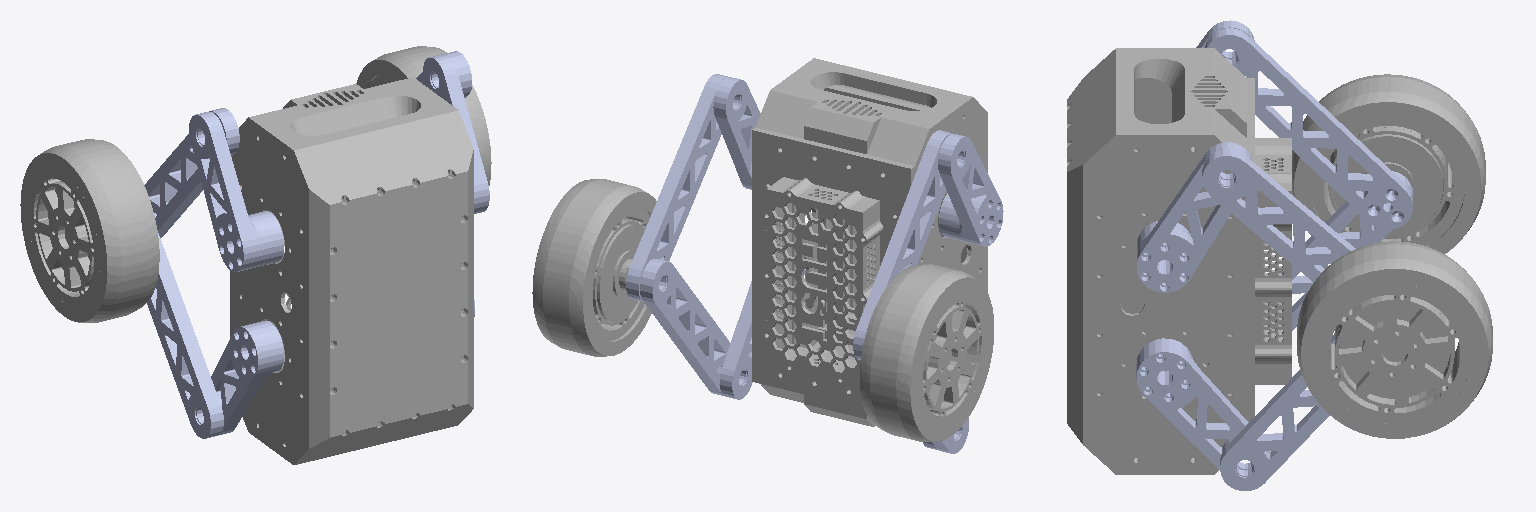
robot.urdf — Assem.SLDASM:
<?xml version="1.0" encoding="utf-8"?>
<!-- This URDF was automatically created by SolidWorks to URDF Exporter! Originally created by Stephen Brawner (brawner@gmail.com) 
     Commit Version: 1.6.0-4-g7f85cfe  Build Version: 1.6.7995.38578
     For more information, please see http://wiki.ros.org/sw_urdf_exporter -->
<robot
  name="Assem.SLDASM">
  <link
    name="base_link">
    <inertial>
      <origin
        xyz="0.61810566148853 0.852358257522334 1.31200349836816"
        rpy="0 0 0" />
      <mass
        value="0.691272524367652" />
      <inertia
        ixx="0.00179818156893696"
        ixy="-6.73961762236765E-07"
        ixz="2.36931261953476E-10"
        iyy="0.000910846989775591"
        iyz="3.95770924716962E-08"
        izz="0.00220419368434546" />
    </inertial>
    <visual>
      <origin
        xyz="0 0 0"
        rpy="0 0 0" />
      <geometry>
        <mesh
          filename="package://Assem.SLDASM/meshes/base_link.STL" />
      </geometry>
      <material
        name="">
        <color
          rgba="0.752941176470588 0.752941176470588 0.752941176470588 1" />
      </material>
    </visual>
    <collision>
      <origin
        xyz="0 0 0"
        rpy="0 0 0" />
      <geometry>
        <mesh
          filename="package://Assem.SLDASM/meshes/base_link.STL" />
      </geometry>
    </collision>
  </link>
  <link
    name="link1R">
    <inertial>
      <origin
        xyz="0.0216791526538073 -3.59088608667957E-05 0.0198410076409694"
        rpy="0 0 0" />
      <mass
        value="0.0439251847494173" />
      <inertia
        ixx="7.419213024296E-06"
        ixy="1.76038259105975E-08"
        ixz="-5.84387301022653E-06"
        iyy="4.19728220726573E-05"
        iyz="9.7143212961844E-09"
        izz="4.2695974807547E-05" />
    </inertial>
    <visual>
      <origin
        xyz="0 0 0"
        rpy="0 0 0" />
      <geometry>
        <mesh
          filename="package://Assem.SLDASM/meshes/link1R.STL" />
      </geometry>
      <material
        name="">
        <color
          rgba="0.792156862745098 0.819607843137255 0.933333333333333 1" />
      </material>
    </visual>
    <collision>
      <origin
        xyz="0 0 0"
        rpy="0 0 0" />
      <geometry>
        <mesh
          filename="package://Assem.SLDASM/meshes/link1R.STL" />
      </geometry>
    </collision>
  </link>
  <joint
    name="joint1R"
    type="continuous">
    <origin
      xyz="0.68104 -1.3109 0.89235"
      rpy="1.5708 -1.0344 1.5708" />
    <parent
      link="base_link" />
    <child
      link="link1R" />
    <axis
      xyz="0 0 1" />
  </joint>
  <link
    name="link2R">
    <inertial>
      <origin
        xyz="0.0704842164539703 -5.09785780576921E-05 0.00499258085565435"
        rpy="0 0 0" />
      <mass
        value="0.0409696917611631" />
      <inertia
        ixx="4.07935788655227E-06"
        ixy="-1.01132316890405E-09"
        ixz="2.11300215271454E-08"
        iyy="9.92625677292106E-05"
        iyz="1.54954515179655E-11"
        izz="0.000102663959383853" />
    </inertial>
    <visual>
      <origin
        xyz="0 0 0"
        rpy="0 0 0" />
      <geometry>
        <mesh
          filename="package://Assem.SLDASM/meshes/link2R.STL" />
      </geometry>
      <material
        name="">
        <color
          rgba="0.792156862745098 0.819607843137255 0.933333333333333 1" />
      </material>
    </visual>
    <collision>
      <origin
        xyz="0 0 0"
        rpy="0 0 0" />
      <geometry>
        <mesh
          filename="package://Assem.SLDASM/meshes/link2R.STL" />
      </geometry>
    </collision>
  </link>
  <joint
    name="joint2R"
    type="continuous">
    <origin
      xyz="0.0749999999999999 0 0.031"
      rpy="0 0 -1.78343844791078" />
    <parent
      link="link1R" />
    <child
      link="link2R" />
    <axis
      xyz="0 0 1" />
  </joint>
  <link
    name="endpointR">
    <inertial>
      <origin
        xyz="1.18411980332134E-06 -0.029188076695661 2.15137483361438E-06"
        rpy="0 0 0" />
      <mass
        value="0.39404194246184" />
      <inertia
        ixx="0.000393972937191074"
        ixy="-1.11212347125766E-08"
        ixz="-4.78539467822537E-07"
        iyy="0.000716987139688872"
        iyz="-2.02061240314965E-08"
        izz="0.000394256553444458" />
    </inertial>
    <visual>
      <origin
        xyz="0 0 0"
        rpy="0 0 0" />
      <geometry>
        <mesh
          filename="package://Assem.SLDASM/meshes/endpointR.STL" />
      </geometry>
      <material
        name="">
        <color
          rgba="0.752941176470588 0.752941176470588 0.752941176470588 1" />
      </material>
    </visual>
    <collision>
      <origin
        xyz="0 0 0"
        rpy="0 0 0" />
      <geometry>
        <mesh
          filename="package://Assem.SLDASM/meshes/endpointR.STL" />
      </geometry>
    </collision>
  </link>
  <joint
    name="jointendR"
    type="continuous">
    <origin
      xyz="0.14 0 0.00999999999999879"
      rpy="-1.5707963267949 0 1.66873286233154" />
    <parent
      link="link2R" />
    <child
      link="endpointR" />
    <axis
      xyz="0 1 0" />
  </joint>
  <link
    name="link3R">
    <inertial>
      <origin
        xyz="0.0272566892648303 5.17504255990175E-05 0.0125673989046905"
        rpy="0 0 0" />
      <mass
        value="0.035144203868027" />
      <inertia
        ixx="4.26440193426715E-06"
        ixy="-1.20237632937082E-08"
        ixz="-2.30912819833261E-06"
        iyy="3.36922310510363E-05"
        iyz="-4.42371615446595E-09"
        izz="3.61215255722546E-05" />
    </inertial>
    <visual>
      <origin
        xyz="0 0 0"
        rpy="0 0 0" />
      <geometry>
        <mesh
          filename="package://Assem.SLDASM/meshes/link3R.STL" />
      </geometry>
      <material
        name="">
        <color
          rgba="0.792156862745098 0.819607843137255 0.933333333333333 1" />
      </material>
    </visual>
    <collision>
      <origin
        xyz="0 0 0"
        rpy="0 0 0" />
      <geometry>
        <mesh
          filename="package://Assem.SLDASM/meshes/link3R.STL" />
      </geometry>
    </collision>
  </link>
  <joint
    name="joint3R"
    type="continuous">
    <origin
      xyz="0.68104 -1.3109 0.81235"
      rpy="1.5708 0.85617 1.5708" />
    <parent
      link="base_link" />
    <child
      link="link3R" />
    <axis
      xyz="0 0 1" />
  </joint>
  <link
    name="link4R">
    <inertial>
      <origin
        xyz="0.0700000000005406 -5.13336723744207E-05 0.00500000000000023"
        rpy="0 0 0" />
      <mass
        value="0.0406862889202399" />
      <inertia
        ixx="4.08543363100097E-06"
        ixy="5.45912734505397E-19"
        ixz="-1.7136532841024E-19"
        iyy="9.78895762770687E-05"
        iyz="-8.68708208124289E-21"
        izz="0.000101299562880117" />
    </inertial>
    <visual>
      <origin
        xyz="0 0 0"
        rpy="0 0 0" />
      <geometry>
        <mesh
          filename="package://Assem.SLDASM/meshes/link4R.STL" />
      </geometry>
      <material
        name="">
        <color
          rgba="0.792156862745098 0.819607843137255 0.933333333333333 1" />
      </material>
    </visual>
    <collision>
      <origin
        xyz="0 0 0"
        rpy="0 0 0" />
      <geometry>
        <mesh
          filename="package://Assem.SLDASM/meshes/link4R.STL" />
      </geometry>
    </collision>
  </link>
  <joint
    name="joint4R"
    type="continuous">
    <origin
      xyz="0.075 0 0.02"
      rpy="0 0 1.7127" />
    <parent
      link="link3R" />
    <child
      link="link4R" />
    <axis
      xyz="0 0 1" />
  </joint>
  <link
    name="link1L">
    <inertial>
      <origin
        xyz="0.0216791528658966 -3.59088274282104E-05 -0.0111590172816588"
        rpy="0 0 0" />
      <mass
        value="0.043925184815285" />
      <inertia
        ixx="7.41921298192342E-06"
        ixy="1.76039364253612E-08"
        ixz="-5.8438730519653E-06"
        iyy="4.19728220374616E-05"
        iyz="9.71430229690335E-09"
        izz="4.26959747772089E-05" />
    </inertial>
    <visual>
      <origin
        xyz="0 0 0"
        rpy="0 0 0" />
      <geometry>
        <mesh
          filename="package://Assem.SLDASM/meshes/link1L.STL" />
      </geometry>
      <material
        name="">
        <color
          rgba="0.792156862745098 0.819607843137255 0.933333333333333 1" />
      </material>
    </visual>
    <collision>
      <origin
        xyz="0 0 0"
        rpy="0 0 0" />
      <geometry>
        <mesh
          filename="package://Assem.SLDASM/meshes/link1L.STL" />
      </geometry>
    </collision>
  </link>
  <joint
    name="joint1L"
    type="continuous">
    <origin
      xyz="0.52404 -1.3109 0.89235"
      rpy="-1.5708 -1.0146 1.5708" />
    <parent
      link="base_link" />
    <child
      link="link1L" />
    <axis
      xyz="0 0 1" />
  </joint>
  <link
    name="link2L">
    <inertial>
      <origin
        xyz="0.0704842164538044 -5.09785770338445E-05 0.00499258085565435"
        rpy="0 0 0" />
      <mass
        value="0.0409696917611632" />
      <inertia
        ixx="4.07935788655224E-06"
        ixy="-1.01132316888457E-09"
        ixz="2.11300215271262E-08"
        iyy="9.92625677292114E-05"
        iyz="1.54954514802004E-11"
        izz="0.000102663959383854" />
    </inertial>
    <visual>
      <origin
        xyz="0 0 0"
        rpy="0 0 0" />
      <geometry>
        <mesh
          filename="package://Assem.SLDASM/meshes/link2L.STL" />
      </geometry>
      <material
        name="">
        <color
          rgba="0.792156862745098 0.819607843137255 0.933333333333333 1" />
      </material>
    </visual>
    <collision>
      <origin
        xyz="0 0 0"
        rpy="0 0 0" />
      <geometry>
        <mesh
          filename="package://Assem.SLDASM/meshes/link2L.STL" />
      </geometry>
    </collision>
  </link>
  <joint
    name="joint2L"
    type="continuous">
    <origin
      xyz="0.0750000000000001 0 -0.0110000250000003"
      rpy="3.14159265358979 0 1.82054307798178" />
    <parent
      link="link1L" />
    <child
      link="link2L" />
    <axis
      xyz="0 0 1" />
  </joint>
  <link
    name="endpointL">
    <inertial>
      <origin
        xyz="1.18411989269429E-06 -0.0291880766956611 2.1513746928381E-06"
        rpy="0 0 0" />
      <mass
        value="0.39404194246184" />
      <inertia
        ixx="0.000393972937191072"
        ixy="-1.11212347121826E-08"
        ixz="-4.78539467822455E-07"
        iyy="0.00071698713968887"
        iyz="-2.02061240323212E-08"
        izz="0.000394256553444458" />
    </inertial>
    <visual>
      <origin
        xyz="0 0 0"
        rpy="0 0 0" />
      <geometry>
        <mesh
          filename="package://Assem.SLDASM/meshes/endpointL.STL" />
      </geometry>
      <material
        name="">
        <color
          rgba="0.752941176470588 0.752941176470588 0.752941176470588 1" />
      </material>
    </visual>
    <collision>
      <origin
        xyz="0 0 0"
        rpy="0 0 0" />
      <geometry>
        <mesh
          filename="package://Assem.SLDASM/meshes/endpointL.STL" />
      </geometry>
    </collision>
  </link>
  <joint
    name="jointendL"
    type="continuous">
    <origin
      xyz="0.139999999999833 0 -0.00999999999999912"
      rpy="1.5707963267949 0 -0.932316231449313" />
    <parent
      link="link2L" />
    <child
      link="endpointL" />
    <axis
      xyz="0 1 0" />
  </joint>
  <link
    name="link3L">
    <inertial>
      <origin
        xyz="0.0272566847586091 5.17580566299358E-05 -0.00743262665821631"
        rpy="0 0 0" />
      <mass
        value="0.0351441877241624" />
      <inertia
        ixx="4.26440053703284E-06"
        ixy="-1.20258055309482E-08"
        ixz="-2.30913144934425E-06"
        iyy="3.36922430547454E-05"
        iyz="-4.42391844830516E-09"
        izz="3.61215344241451E-05" />
    </inertial>
    <visual>
      <origin
        xyz="0 0 0"
        rpy="0 0 0" />
      <geometry>
        <mesh
          filename="package://Assem.SLDASM/meshes/link3L.STL" />
      </geometry>
      <material
        name="">
        <color
          rgba="0.792156862745098 0.819607843137255 0.933333333333333 1" />
      </material>
    </visual>
    <collision>
      <origin
        xyz="0 0 0"
        rpy="0 0 0" />
      <geometry>
        <mesh
          filename="package://Assem.SLDASM/meshes/link3L.STL" />
      </geometry>
    </collision>
  </link>
  <joint
    name="joint3L"
    type="continuous">
    <origin
      xyz="0.535037141050128 -1.31086730652498 0.812350744788092"
      rpy="-1.5707963267949 0.960614308680286 1.5707963267949" />
    <parent
      link="base_link" />
    <child
      link="link3L" />
    <axis
      xyz="0 0 1" />
  </joint>
  <link
    name="link4L">
    <inertial>
      <origin
        xyz="0.07 -5.13336724696778E-05 -0.00499997499999971"
        rpy="0 0 0" />
      <mass
        value="0.0406862889202398" />
      <inertia
        ixx="4.08543363100097E-06"
        ixy="3.32672190034126E-19"
        ixz="-1.76263948007471E-19"
        iyy="9.78895762770684E-05"
        iyz="-1.03028465686194E-20"
        izz="0.000101299562880117" />
    </inertial>
    <visual>
      <origin
        xyz="0 0 0"
        rpy="0 0 0" />
      <geometry>
        <mesh
          filename="package://Assem.SLDASM/meshes/link4L.STL" />
      </geometry>
      <material
        name="">
        <color
          rgba="0.792156862745098 0.819607843137255 0.933333333333333 1" />
      </material>
    </visual>
    <collision>
      <origin
        xyz="0 0 0"
        rpy="0 0 0" />
      <geometry>
        <mesh
          filename="package://Assem.SLDASM/meshes/link4L.STL" />
      </geometry>
    </collision>
  </link>
  <joint
    name="joint4L"
    type="continuous">
    <origin
      xyz="0.0749999999999997 0 0"
      rpy="3.14159265358979 0 -1.79951415912076" />
    <parent
      link="link3L" />
    <child
      link="link4L" />
    <axis
      xyz="0 0 1" />
  </joint>
</robot>

--- Render facts (derived) ---
The picture shows the robot from 3 angles, left to right: view 1: azimuth 30°, elevation 25°; view 2: azimuth 150°, elevation 25°; view 3: azimuth 270°, elevation 25°; orthographic projection.
Model Assem.SLDASM with 11 links and 10 joints (10 continuous), rooted at base_link, posed all joints at 0.
Visible links, largest first — view 1: base_link, endpointL, link1L, link4L, link3L, link2L, endpointR, link1R, link2R; view 2: base_link, endpointL, endpointR, link2R, link4R, link1L, link2L, link1R, link3R, link4L; view 3: base_link, endpointR, endpointL, link2L, link2R, link3R, link1R, link4R, link4L.
Link boxes in pixels (x1,y1,x2,y2): base_link: [230, 77, 473, 464]; endpointL: [20, 139, 159, 322]; link1L: [189, 112, 283, 271]; link4L: [147, 233, 223, 438]; link3L: [211, 321, 283, 435]; link2L: [144, 108, 239, 237]; endpointR: [356, 46, 491, 185]; link1R: [423, 54, 489, 213]; link2R: [416, 51, 471, 97]; base_link: [752, 58, 987, 426]; endpointL: [860, 264, 993, 441]; endpointR: [532, 179, 656, 356]; link2R: [626, 74, 727, 301]; link4R: [640, 259, 729, 395]; link1L: [938, 134, 1003, 246]; link2L: [853, 130, 953, 359]; link1R: [713, 77, 760, 189]; link3R: [719, 269, 804, 399]; link4L: [932, 418, 968, 453]; base_link: [1067, 48, 1291, 474]; endpointR: [1297, 241, 1492, 438]; endpointL: [1292, 74, 1485, 253]; link2L: [1205, 28, 1412, 229]; link2R: [1202, 149, 1355, 282]; link3R: [1136, 338, 1269, 469]; link1R: [1137, 142, 1251, 292]; link4R: [1220, 333, 1334, 490]; link4L: [1279, 171, 1412, 330].
Bounding box of the posed robot: 0.296 × 0.2608 × 0.2369 m (x, y, z).
Meshes: 11 distinct files referenced, 11 mesh visuals loaded (11 binary STL).
